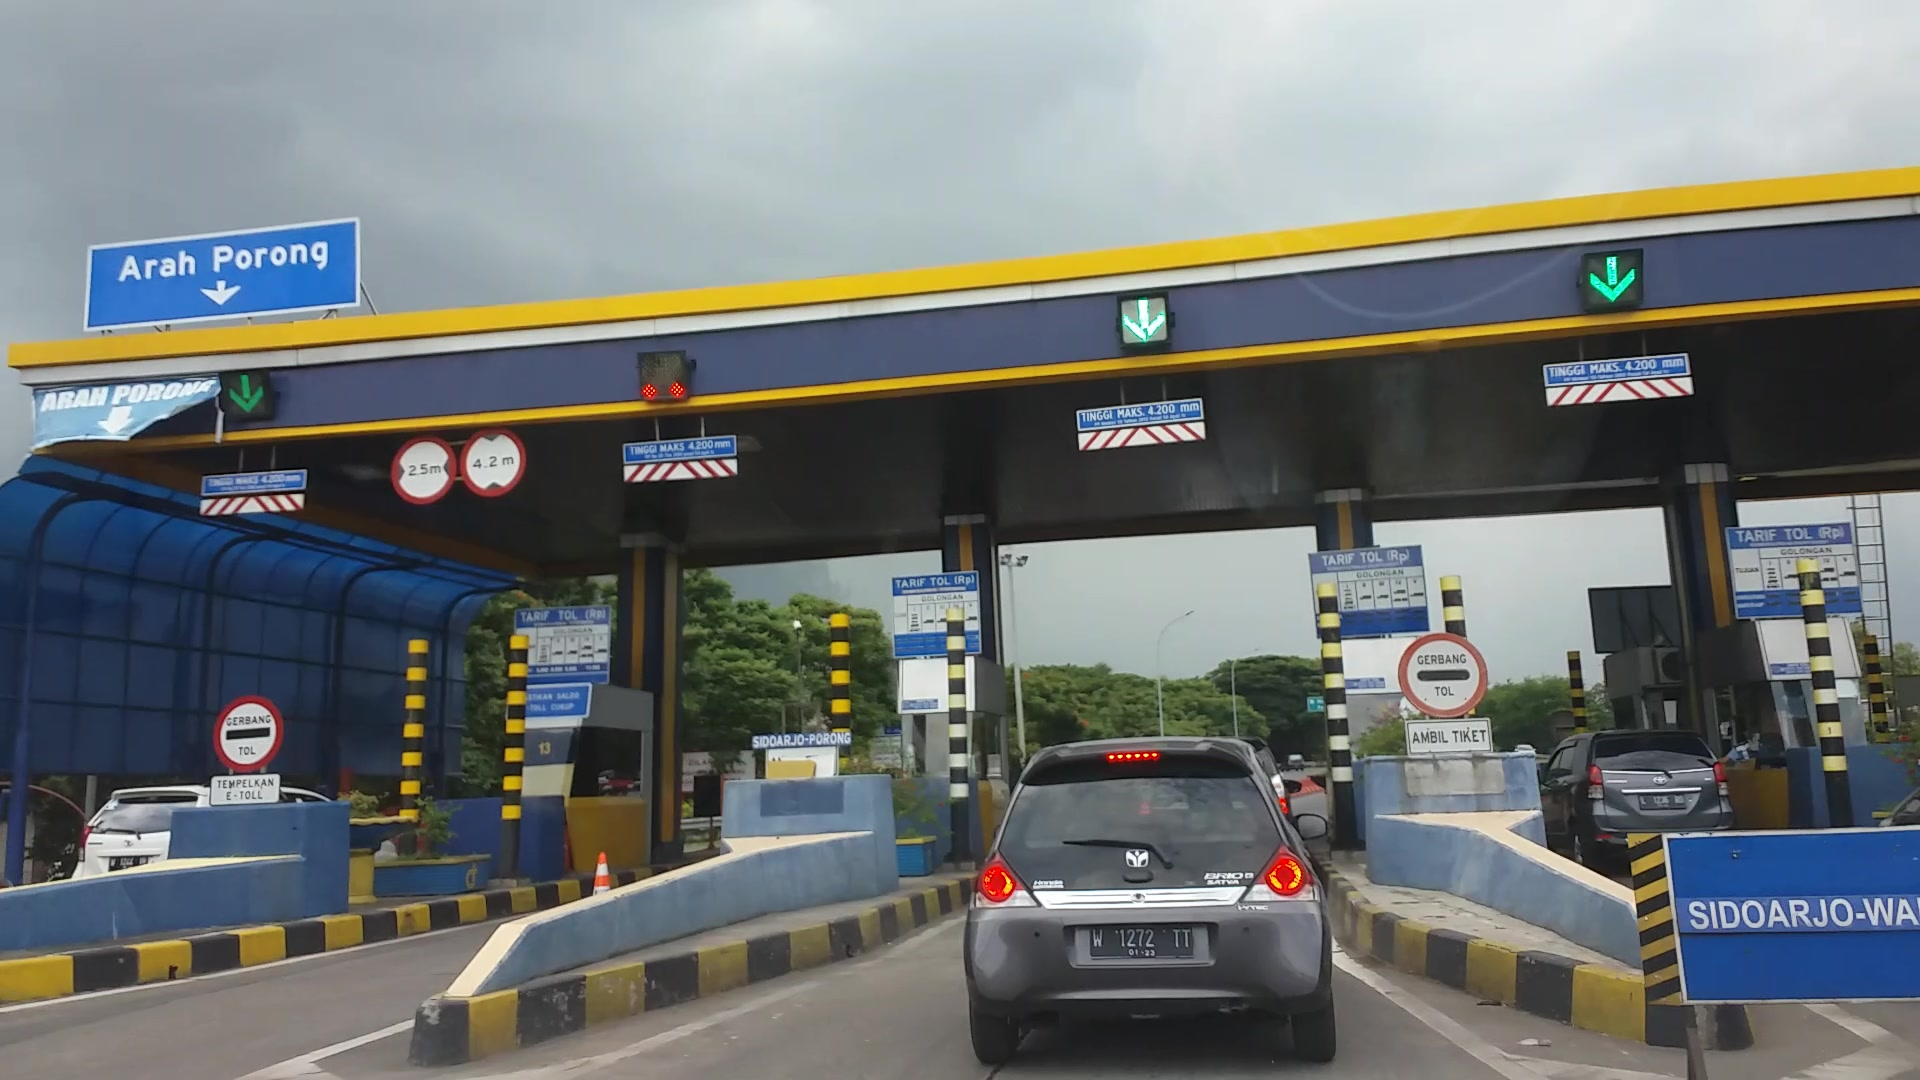plate_positive: (1089, 926, 1193, 957)
